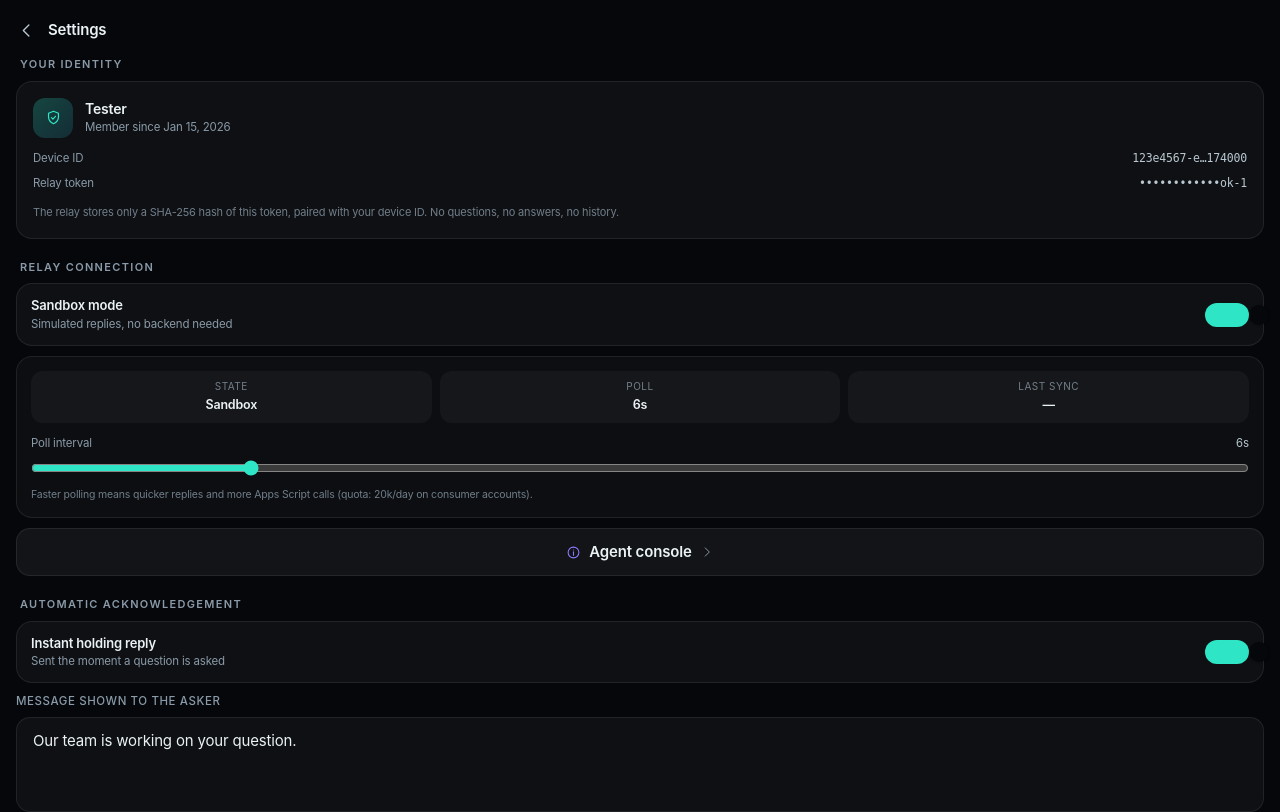
Scenario: Settings › reveals the relay URL field when sandbox mode is turned off
Expected: the text "Tester" is shown, [85,100,127,117]
Expected: the field with placeholder "script.google.com" is not shown
Click the switch named "Sandbox mode" at (1227, 315), box [1205,303,1249,327]
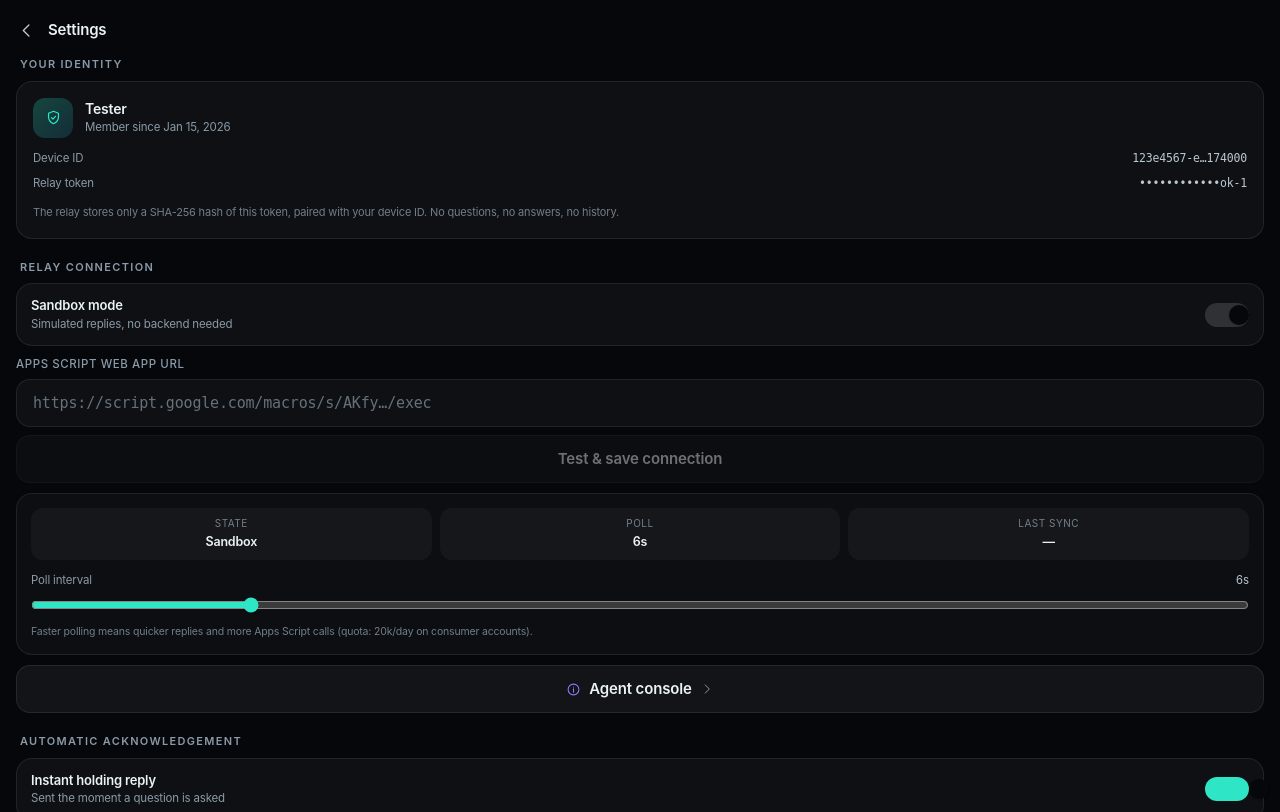
Result: the field with placeholder "https://script.google.com/macros/s/AKfy…/exec" is shown at [16,379,1264,427]
